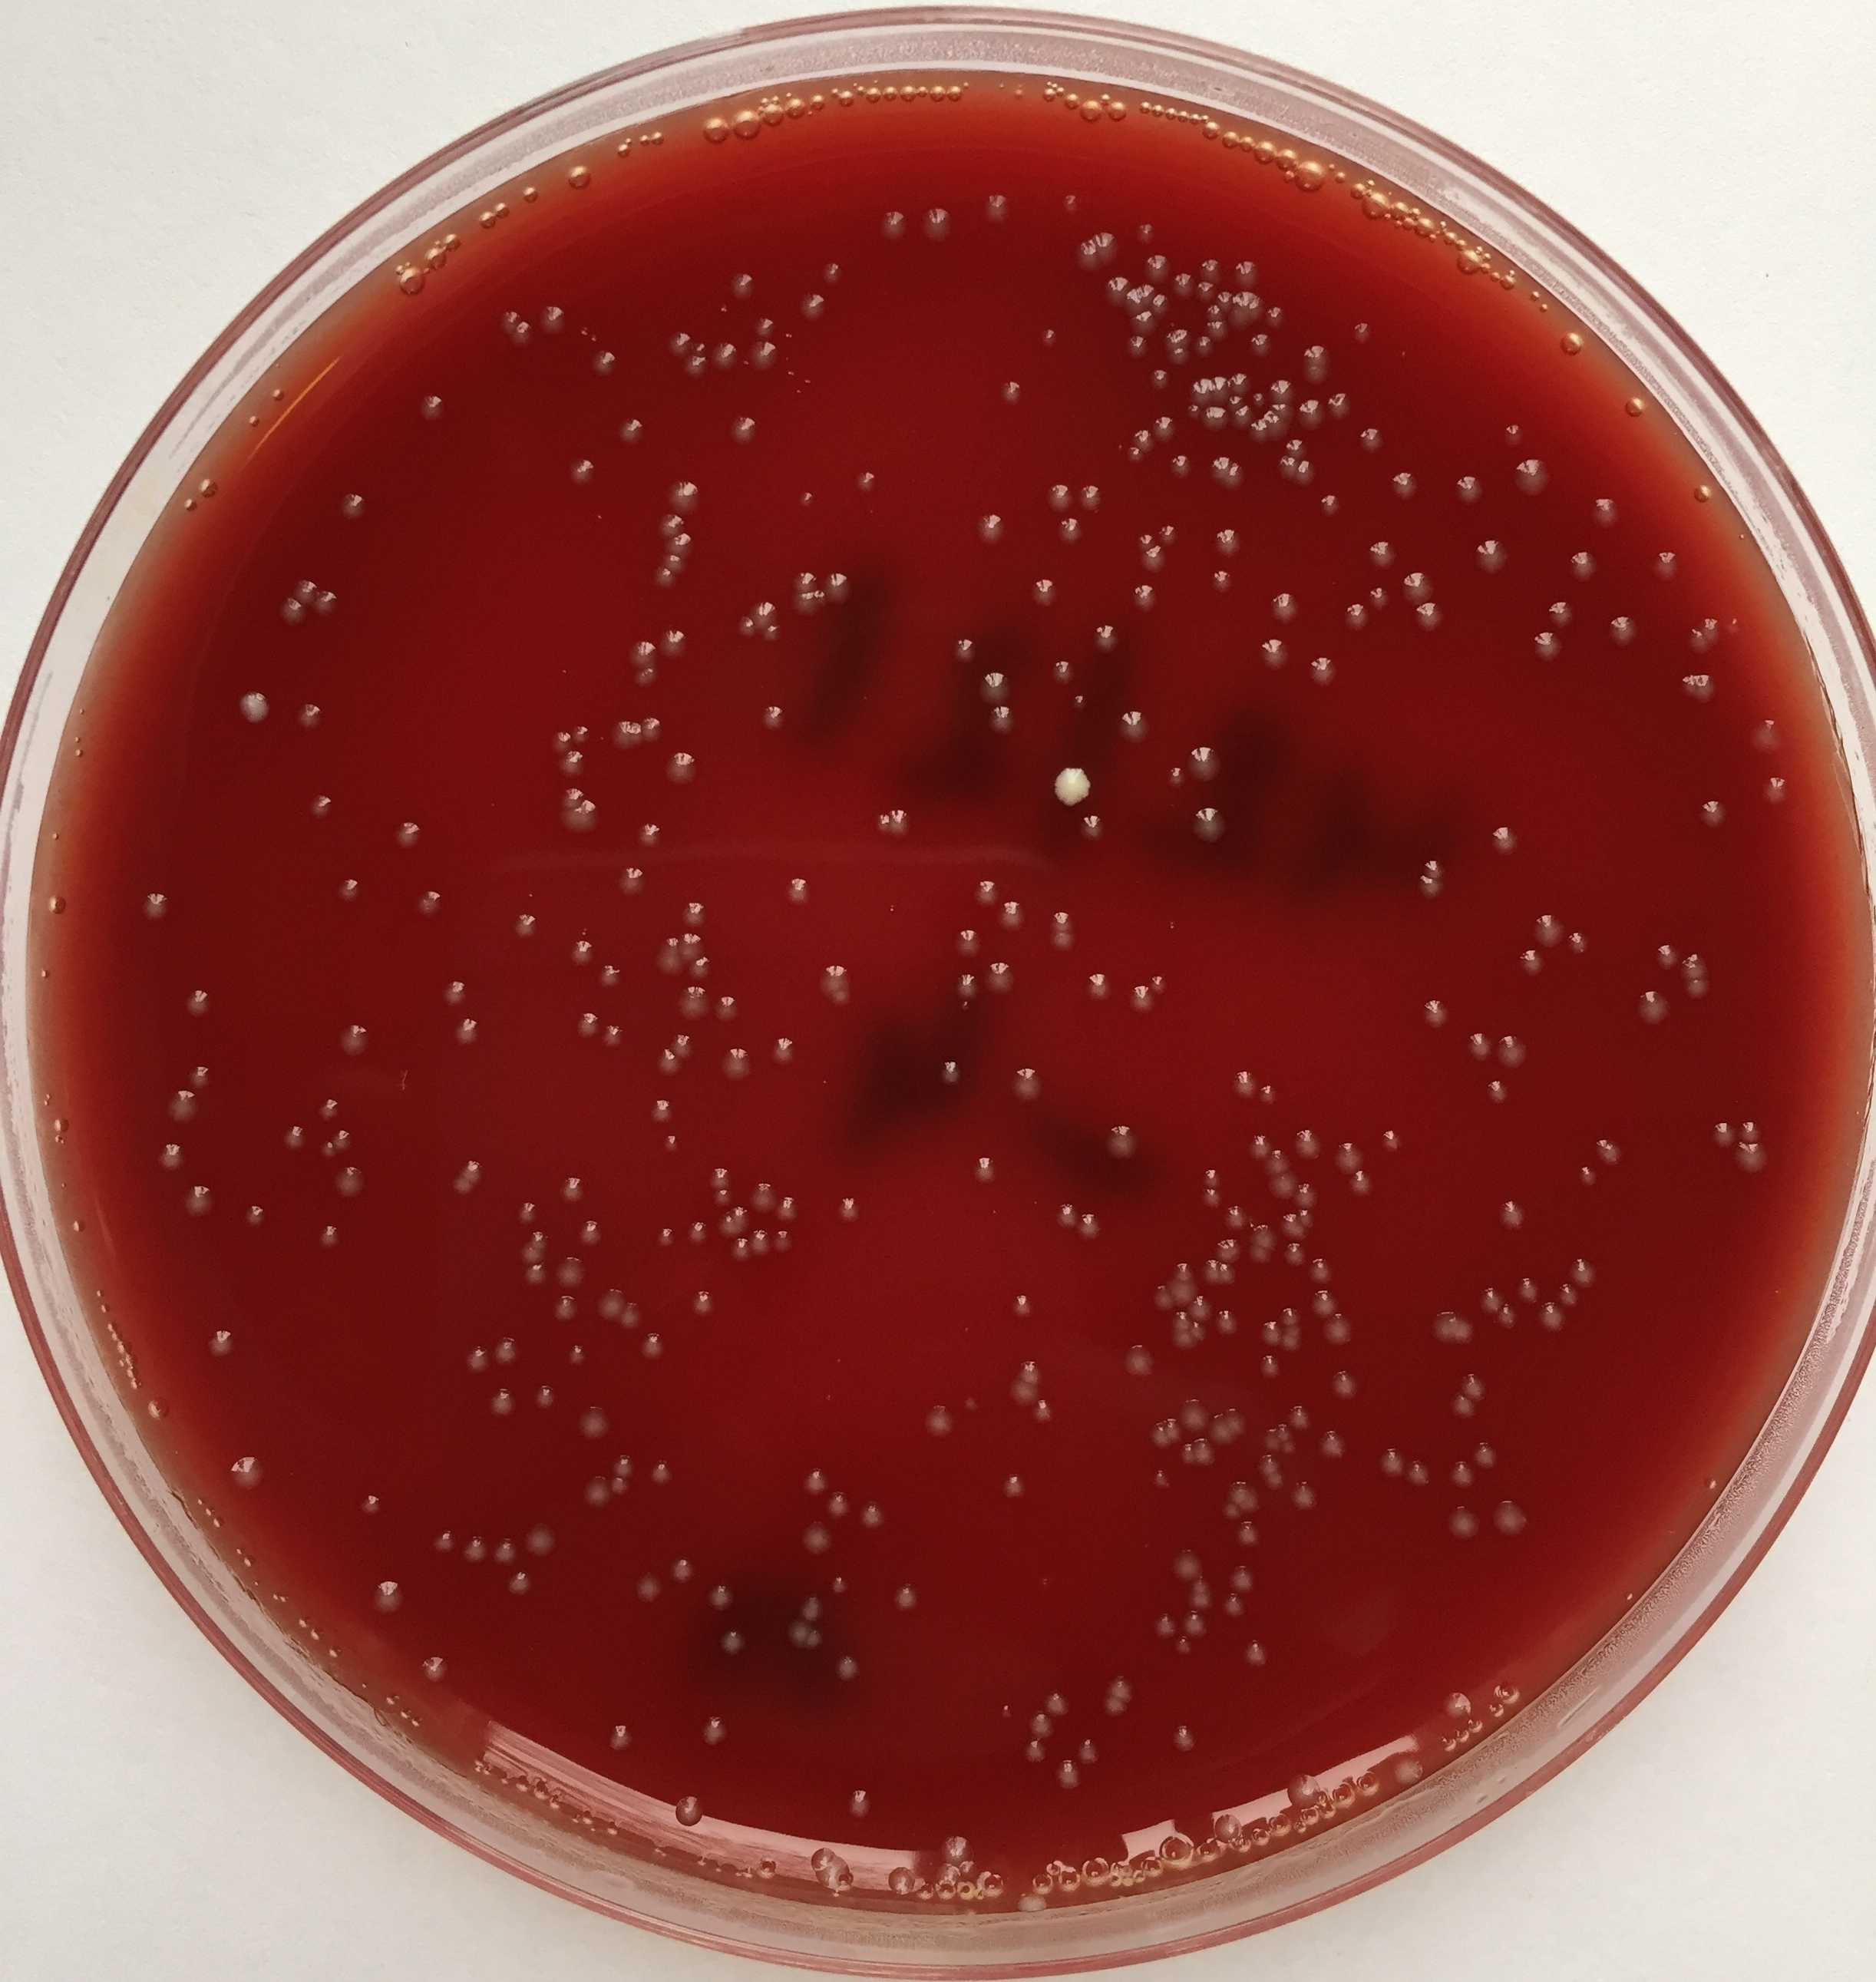sp06: (321, 478, 383, 541), (171, 970, 227, 1030), (321, 1009, 376, 1063), (409, 374, 453, 439), (130, 875, 178, 935), (1474, 813, 1525, 868), (217, 1448, 272, 1499), (365, 1559, 407, 1624), (383, 808, 432, 862), (231, 682, 273, 744), (286, 697, 331, 751), (748, 691, 793, 746), (917, 196, 957, 256), (1098, 1116, 1144, 1169), (1485, 1494, 1532, 1543), (555, 457, 610, 499), (818, 959, 859, 1016), (1509, 457, 1557, 504), (987, 374, 1033, 423), (964, 501, 1005, 555), (1120, 1337, 1162, 1388), (305, 783, 342, 839), (1187, 801, 1229, 850), (1007, 1058, 1047, 1109), (499, 903, 543, 949), (712, 1046, 756, 1092), (1430, 1308, 1478, 1351), (1693, 790, 1733, 839), (520, 1516, 559, 1568), (608, 402, 652, 446), (659, 748, 703, 792), (446, 1014, 487, 1062), (1728, 1141, 1775, 1181), (1114, 702, 1153, 751), (665, 1543, 702, 1594), (413, 1647, 455, 1691), (612, 862, 652, 908), (971, 1144, 1005, 1199), (1650, 543, 1686, 594), (741, 339, 783, 381), (973, 187, 1016, 229), (197, 1323, 242, 1363), (1680, 670, 1721, 714), (587, 342, 626, 388), (1744, 716, 1790, 755), (873, 201, 910, 249), (178, 1181, 220, 1222), (331, 861, 365, 912), (1187, 739, 1224, 785), (919, 1400, 956, 1446), (1472, 536, 1509, 582), (718, 411, 767, 444), (536, 293, 569, 342), (330, 1166, 370, 1206), (661, 474, 702, 515), (1021, 575, 1063, 614), (711, 1624, 749, 1666), (407, 883, 451, 920), (1495, 1194, 1527, 1245), (698, 1707, 733, 1753), (578, 1400, 614, 1446), (603, 1716, 636, 1763), (1756, 765, 1790, 813), (150, 1139, 189, 1180), (566, 801, 607, 839), (1442, 1502, 1481, 1543), (1633, 986, 1671, 1026), (1566, 547, 1604, 587), (633, 811, 668, 855), (1076, 806, 1107, 853), (1292, 1478, 1324, 1525), (1411, 601, 1449, 640), (778, 873, 815, 913), (160, 1090, 201, 1127), (982, 702, 1023, 739), (1585, 494, 1622, 534), (439, 970, 474, 1012), (1234, 293, 1269, 335), (1266, 587, 1301, 630), (936, 1046, 964, 1099), (1171, 1539, 1206, 1582), (677, 984, 709, 1030), (428, 1524, 465, 1562), (795, 1520, 834, 1557), (1291, 1125, 1328, 1164), (765, 1032, 800, 1072), (1169, 1721, 1204, 1762), (982, 957, 1016, 1000), (1493, 1032, 1527, 1074), (1178, 1388, 1210, 1432), (547, 1293, 584, 1330), (1282, 1769, 1319, 1806), (979, 665, 1017, 700), (1255, 637, 1291, 675), (1303, 651, 1336, 691), (1074, 1210, 1105, 1252), (1608, 610, 1640, 652), (629, 1569, 659, 1613), (280, 1116, 307, 1166), (310, 1090, 346, 1127), (1403, 563, 1439, 600), (578, 1474, 614, 1511), (1532, 910, 1567, 947), (1530, 630, 1566, 667), (353, 1490, 391, 1524), (795, 293, 834, 326), (670, 1795, 709, 1829), (488, 1330, 522, 1368), (462, 1527, 490, 1573), (723, 266, 755, 307), (689, 1282, 721, 1323), (811, 1846, 843, 1887), (890, 1580, 922, 1621), (853, 464, 883, 506), (1384, 1753, 1426, 1783), (1567, 1252, 1603, 1287), (830, 1196, 867, 1229), (938, 1829, 971, 1866), (705, 1578, 742, 1612), (1439, 1688, 1476, 1721), (314, 1218, 346, 1257), (566, 931, 598, 970), (1208, 525, 1247, 557), (832, 1647, 864, 1686), (487, 1386, 518, 1425), (998, 898, 1028, 938), (1007, 1289, 1037, 1330), (316, 584, 344, 626), (1028, 321, 1063, 354), (786, 478, 822, 511), (711, 991, 744, 1026), (552, 1254, 587, 1287), (1594, 1137, 1627, 1173), (1451, 474, 1485, 510), (859, 1495, 890, 1532), (1238, 1631, 1269, 1668), (1172, 1257, 1199, 1301), (822, 568, 852, 607), (1384, 469, 1423, 499), (638, 1328, 666, 1368), (677, 894, 709, 929), (1088, 621, 1123, 652), (1366, 536, 1398, 571), (531, 1381, 562, 1416), (1213, 1807, 1245, 1843), (1460, 1367, 1492, 1402), (1460, 1026, 1492, 1062), (608, 716, 638, 753), (1423, 996, 1453, 1033), (845, 1786, 875, 1823), (564, 1338, 594, 1375), (1377, 1446, 1407, 1483), (1444, 1457, 1474, 1494), (1442, 1391, 1479, 1421), (1650, 938, 1680, 975), (1495, 421, 1532, 451), (573, 1007, 601, 1046), (1148, 1603, 1176, 1642), (1232, 1515, 1261, 1554), (654, 933, 681, 973), (1051, 1194, 1077, 1234), (658, 622, 689, 656), (1053, 517, 1084, 550), (594, 1282, 626, 1315), (1007, 1381, 1040, 1412), (1333, 1139, 1366, 1171), (238, 1199, 268, 1234), (882, 1862, 912, 1897), (996, 1467, 1026, 1502), (1053, 1756, 1083, 1792), (1347, 1169, 1377, 1204), (1537, 1301, 1567, 1337), (1545, 598, 1574, 633), (557, 751, 594, 779), (711, 332, 739, 369), (950, 630, 979, 667), (1338, 598, 1366, 635), (649, 1453, 677, 1490), (1282, 1323, 1310, 1360), (751, 598, 783, 630), (511, 1199, 543, 1231), (502, 1571, 534, 1603), (1012, 1351, 1044, 1382), (1308, 1287, 1340, 1319), (1047, 652, 1077, 686), (1351, 316, 1384, 346), (1266, 1174, 1299, 1204), (1247, 1222, 1280, 1252), (742, 314, 783, 339), (273, 594, 301, 630), (783, 1621, 811, 1656), (1224, 1562, 1259, 1591), (1381, 1121, 1409, 1157), (1255, 1314, 1284, 1349), (1730, 1116, 1765, 1144), (1418, 871, 1444, 908), (1229, 1067, 1255, 1104), (1097, 226, 1118, 272), (799, 1462, 829, 1494), (1680, 949, 1712, 979), (1077, 481, 1105, 515), (1125, 980, 1153, 1014), (619, 1300, 647, 1333), (748, 1181, 776, 1215), (1044, 481, 1070, 517), (559, 1169, 585, 1204), (1326, 1317, 1352, 1352), (889, 806, 913, 843), (624, 638, 654, 668), (952, 926, 982, 956), (488, 1536, 518, 1566), (795, 1591, 825, 1621), (1130, 584, 1158, 615), (1296, 397, 1324, 428), (652, 1046, 681, 1077), (1331, 1368, 1359, 1400), (1564, 926, 1592, 957), (1705, 610, 1726, 652), (464, 1338, 487, 1377), (1485, 1077, 1511, 1111), (294, 570, 319, 605), (1088, 968, 1113, 1003), (1208, 568, 1236, 598), (1234, 256, 1262, 286), (1165, 321, 1194, 351), (1356, 425, 1384, 455), (573, 1217, 601, 1247), (790, 591, 816, 622), (1328, 388, 1354, 420), (1146, 1280, 1172, 1312), (1234, 1478, 1261, 1509), (1285, 1400, 1312, 1432), (827, 1486, 852, 1520), (1474, 1437, 1499, 1471), (1105, 275, 1128, 310), (751, 1226, 774, 1261), (1215, 1308, 1238, 1344), (636, 711, 665, 739), (1280, 1241, 1308, 1270), (652, 513, 682, 540), (1169, 451, 1195, 481), (973, 876, 1000, 906), (1220, 1199, 1247, 1229), (1030, 1709, 1056, 1739), (820, 256, 845, 287), (666, 533, 698, 557), (1134, 219, 1158, 250), (599, 961, 624, 993), (1072, 240, 1095, 273), (1202, 400, 1225, 434), (1218, 1257, 1241, 1291), (1262, 1150, 1296, 1173), (1708, 1116, 1731, 1150), (1139, 547, 1167, 573), (1132, 309, 1158, 337), (1245, 337, 1273, 363), (1317, 492, 1345, 518), (1419, 853, 1448, 880), (950, 972, 979, 998), (681, 931, 707, 959), (645, 1097, 674, 1123), (1077, 1735, 1104, 1763), (1218, 1592, 1245, 1621), (1278, 1211, 1306, 1238), (1225, 1402, 1252, 1430), (1555, 1287, 1583, 1314), (185, 1063, 215, 1088), (314, 1137, 339, 1167), (335, 1130, 365, 1155), (492, 302, 517, 332), (1146, 252, 1171, 282), (1046, 1686, 1070, 1716), (1319, 1428, 1344, 1458), (1405, 1457, 1430, 1486), (1573, 1162, 1597, 1192), (1518, 949, 1543, 979), (1164, 762, 1187, 794), (1368, 582, 1391, 614), (702, 1164, 733, 1187), (728, 1234, 751, 1266), (1026, 1737, 1049, 1769), (1012, 1887, 1044, 1910), (513, 319, 534, 353), (1299, 344, 1333, 365), (1266, 409, 1287, 443), (1248, 1129, 1269, 1162), (1172, 1633, 1194, 1666), (1195, 1439, 1217, 1472), (1197, 256, 1224, 282), (1049, 903, 1076, 929), (612, 1451, 638, 1478), (1296, 1183, 1322, 1210), (1180, 1613, 1208, 1638), (1495, 1307, 1520, 1335), (1518, 1277, 1543, 1305), (1151, 522, 1181, 545), (1128, 332, 1151, 361), (1172, 270, 1195, 300), (1294, 457, 1317, 487), (682, 1215, 705, 1245), (1213, 1233, 1243, 1256), (996, 1698, 1019, 1728), (1686, 979, 1716, 1002), (776, 1229, 795, 1264), (686, 956, 718, 977), (603, 1021, 624, 1053), (959, 1388, 980, 1419), (545, 726, 569, 753), (681, 356, 707, 381), (1148, 1471, 1174, 1495), (652, 563, 672, 596), (571, 719, 594, 748), (554, 786, 582, 809), (670, 1032, 693, 1060), (1682, 626, 1705, 654), (656, 1222, 677, 1252), (1116, 1668, 1137, 1698), (1227, 460, 1247, 492), (1211, 1416, 1231, 1448), (1269, 376, 1294, 400), (448, 1174, 473, 1199), (661, 326, 684, 353), (790, 564, 816, 587), (1148, 367, 1171, 393), (608, 1476, 635, 1499), (1035, 1402, 1058, 1428), (1298, 1206, 1324, 1229), (1257, 1352, 1280, 1379), (1266, 303, 1287, 332), (1247, 416, 1268, 444), (659, 1132, 681, 1160), (781, 1194, 802, 1222), (1257, 1084, 1278, 1113), (1479, 1282, 1500, 1310), (1199, 1257, 1218, 1287), (636, 665, 659, 689), (1153, 416, 1176, 441), (730, 1204, 753, 1229), (1199, 1187, 1222, 1211), (1190, 1300, 1213, 1324), (1169, 349, 1195, 370), (1051, 931, 1077, 952), (464, 1155, 485, 1181), (1197, 1166, 1224, 1187), (1312, 1257, 1333, 1284), (1171, 1326, 1192, 1352), (1275, 455, 1294, 483), (1102, 1695, 1121, 1723), (1061, 190, 1079, 220), (1206, 321, 1229, 344), (1254, 1449, 1277, 1472), (1217, 289, 1238, 314), (1194, 335, 1218, 356), (1306, 365, 1331, 386), (830, 1569, 852, 1594), (1277, 1303, 1301, 1324), (1150, 1416, 1164, 1453), (666, 552, 693, 571), (1194, 284, 1220, 303), (1208, 453, 1227, 480), (711, 1185, 737, 1204), (1192, 374, 1208, 406), (1151, 968, 1169, 996), (689, 335, 712, 356), (1068, 689, 1090, 712), (1132, 423, 1153, 446), (529, 1229, 550, 1252), (1165, 1412, 1178, 1451), (1275, 1441, 1299, 1460), (1151, 287, 1169, 314), (718, 1217, 735, 1243), (1229, 372, 1250, 393), (733, 612, 753, 635), (518, 1245, 541, 1264), (524, 1264, 547, 1284), (1284, 439, 1308, 457), (1273, 397, 1294, 416), (811, 1629, 830, 1650), (762, 622, 779, 645), (1234, 404, 1252, 427), (934, 1862, 957, 1880), (1171, 1310, 1188, 1331), (1218, 1499, 1236, 1520), (1127, 284, 1139, 314), (961, 1859, 977, 1881), (873, 809, 887, 834), (1217, 374, 1229, 402), (1206, 302, 1224, 321), (1264, 1471, 1282, 1490), (1139, 282, 1155, 303), (1183, 1437, 1195, 1464), (1125, 444, 1143, 462), (1250, 1248, 1268, 1266), (1252, 388, 1268, 407), (1194, 1594, 1213, 1610), (1262, 1427, 1278, 1446), (1190, 1578, 1211, 1592), (1232, 393, 1245, 416), (1194, 1323, 1206, 1345), (1277, 1419, 1289, 1441), (1135, 533, 1151, 548), (957, 998, 971, 1014), (1187, 404, 1199, 421), (815, 589, 825, 608), (1730, 619, 1740, 638)
